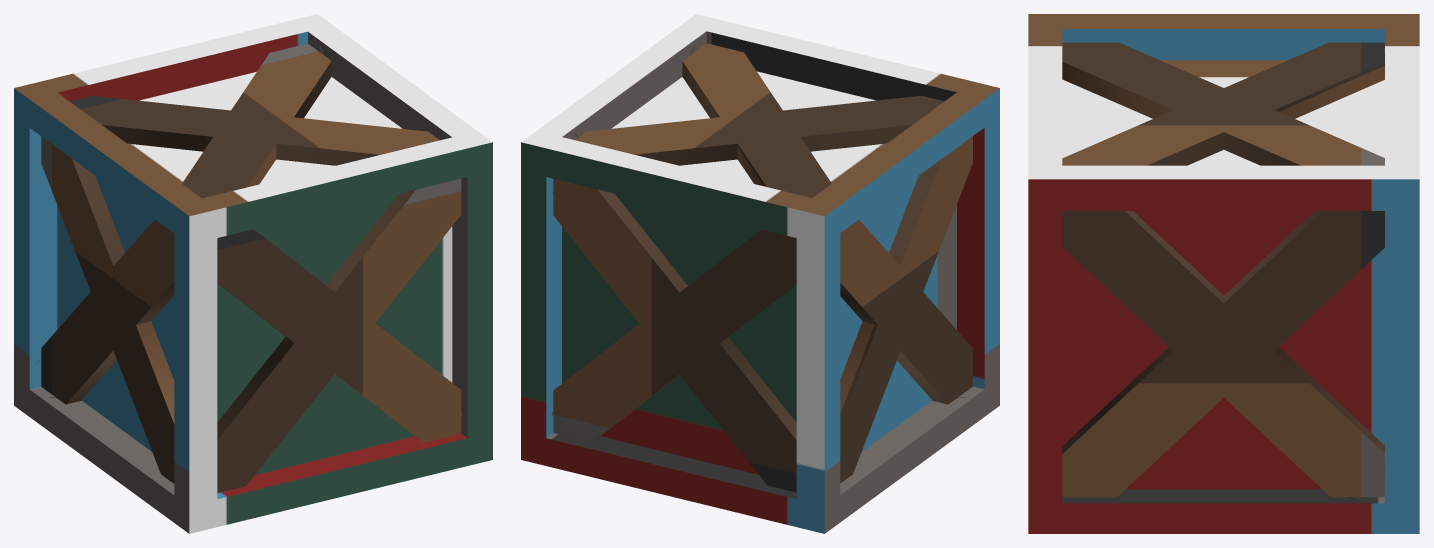
The picture shows the model from 3 angles, left to right: view 1: azimuth 30°, elevation 25°; view 2: azimuth 150°, elevation 25°; view 3: azimuth 270°, elevation 25°; orthographic projection. The views are drawn at different scales.
Parts seen in each view (by area): view 1: Box; view 2: Box; view 3: Box.
Part boxes in pixels (<box>): Box: <box>14,14,492,533</box>; Box: <box>521,14,999,533</box>; Box: <box>1028,14,1419,533</box>.
Size of the model in its own units: 0.2634 by 0.2634 by 0.2634.
1 material, 1 textured.
